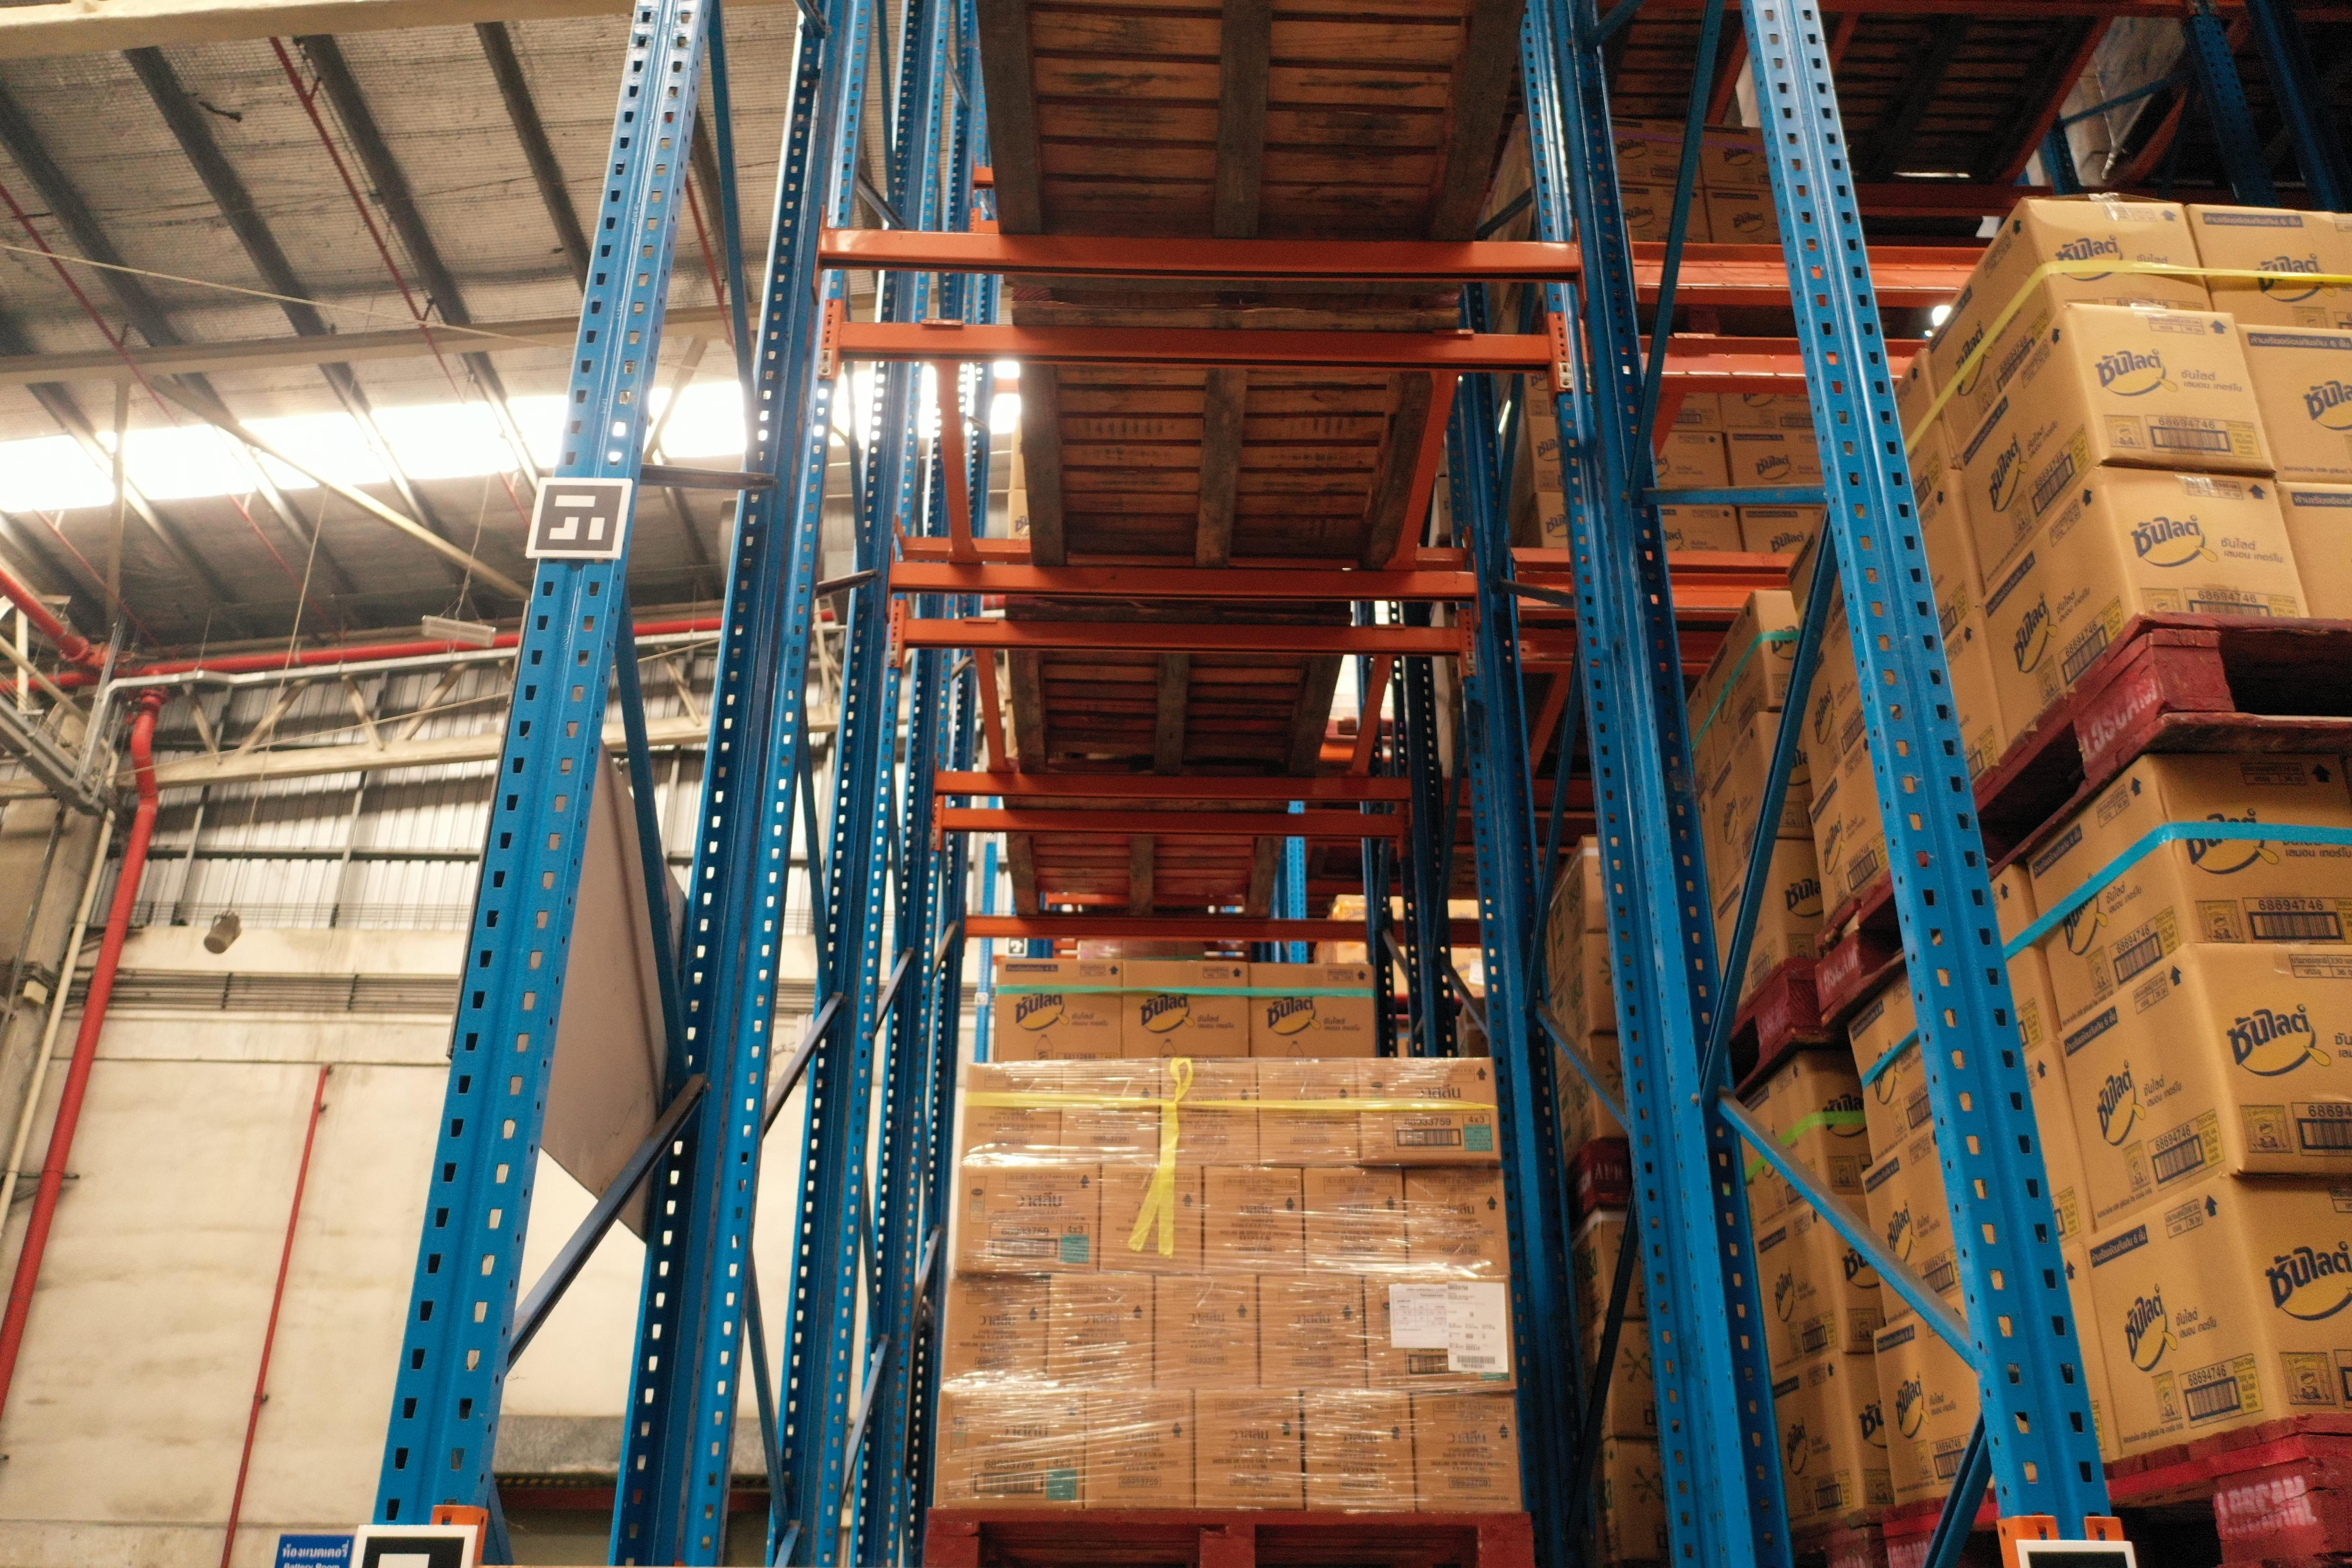-: (2149, 751, 2352, 950), (2189, 941, 2352, 1178), (2063, 303, 2277, 472), (2093, 464, 2317, 619), (2231, 1178, 2352, 1419), (2019, 194, 2217, 317), (2186, 206, 2352, 329), (2243, 318, 2352, 483), (2280, 481, 2352, 623)
2: (996, 959, 1123, 1062), (1122, 961, 1251, 1057), (1246, 961, 1374, 1057)
box: (933, 1393, 1087, 1515), (1365, 1274, 1515, 1395), (954, 1160, 1102, 1274), (1356, 1055, 1500, 1167), (1039, 1274, 1160, 1393), (1298, 1391, 1416, 1514), (1190, 1393, 1307, 1514), (1410, 1393, 1521, 1514), (1083, 1393, 1195, 1510), (1153, 1276, 1263, 1393), (1260, 1276, 1367, 1395), (1095, 1162, 1204, 1276), (945, 1276, 1048, 1395), (1302, 1167, 1410, 1276), (1160, 1057, 1260, 1174), (1256, 1057, 1360, 1167), (1405, 1162, 1505, 1276), (1057, 1059, 1160, 1165), (1200, 1167, 1304, 1274), (962, 1062, 1064, 1167)
